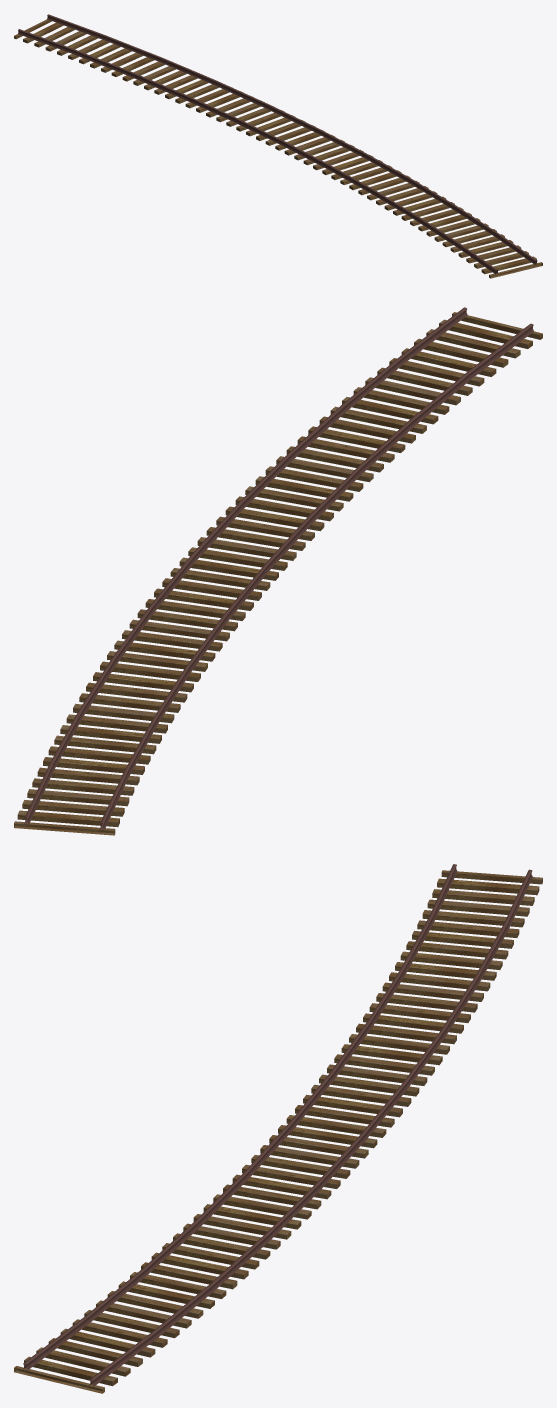
Rendered from rail_008.fbx.
The picture shows the model from 3 angles, top to bottom: view 1: azimuth 30°, elevation 25°; view 2: azimuth 150°, elevation 25°; view 3: azimuth 330°, elevation 25°; orthographic projection. The views are drawn at different scales.
Visible parts, largest first — view 1: main; view 2: main; view 3: main.
Boxes of the visible parts, box(x1,y1,x2,y2) form: main: box(14, 14, 542, 278); main: box(14, 307, 542, 835); main: box(14, 864, 542, 1393).
Size of the model in its own units: 1252 by 50 by 4967.
